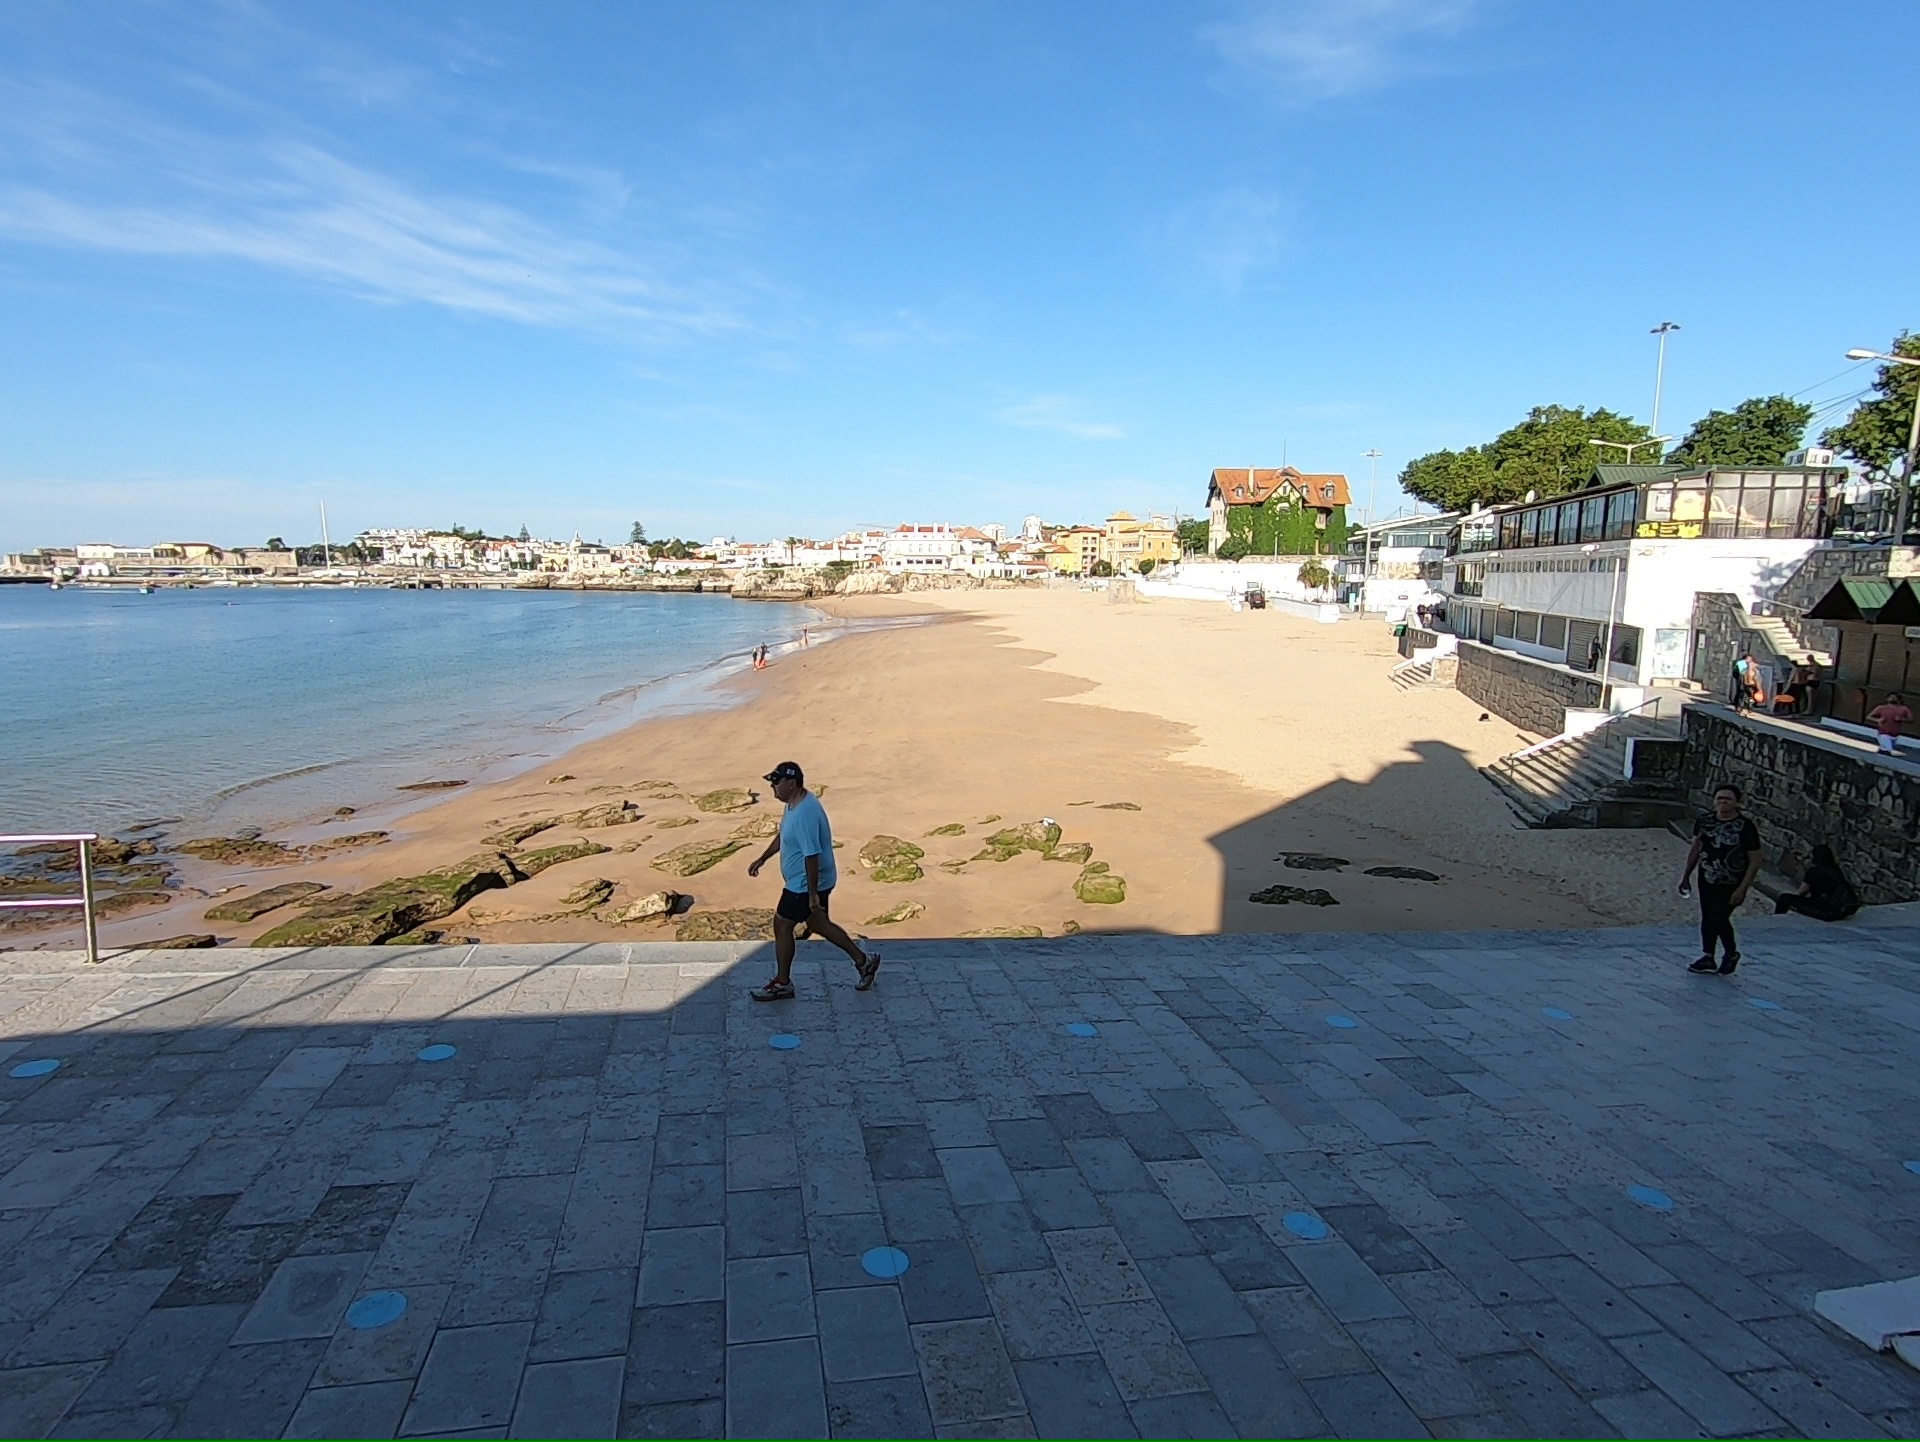person: (747, 760, 880, 1001), (1677, 778, 1761, 980), (1779, 834, 1863, 927), (1863, 705, 1916, 754), (1737, 657, 1762, 712), (1784, 658, 1805, 710), (1806, 654, 1822, 710), (1588, 636, 1603, 671), (750, 648, 759, 670), (759, 642, 769, 661), (803, 623, 807, 637)
